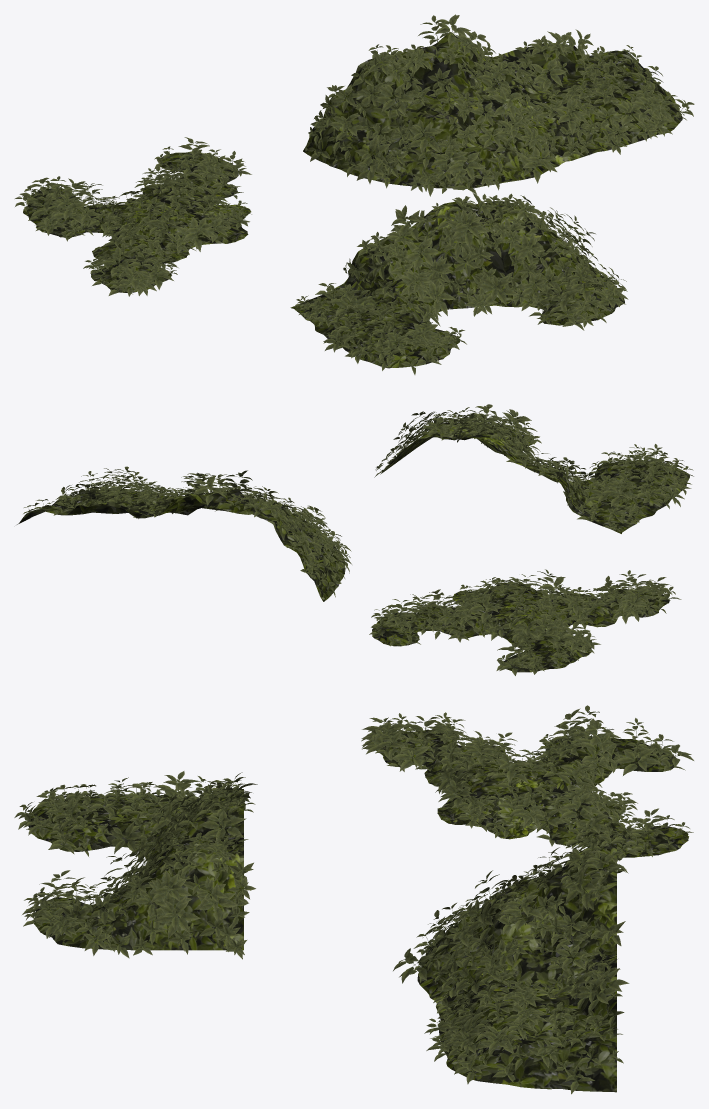
File: Shrub.fbx
3 renders of one model, top to bottom at view 1: azimuth 30°, elevation 25°; view 2: azimuth 150°, elevation 25°; view 3: azimuth 270°, elevation 25°, orthographic. The views are drawn at different scales.
Visible parts, largest first — view 1: Bush02.Shape, Bush03.Shape, Bush01.Shape; view 2: Bush01.Shape, Bush03.Shape, Bush02.Shape; view 3: Bush02.Shape, Bush03.Shape, Bush01.Shape.
Boxes of the visible parts, left/top/right/bottom form: Bush02.Shape: left=303, top=14, right=694, bottom=196; Bush03.Shape: left=290, top=192, right=628, bottom=374; Bush01.Shape: left=15, top=137, right=251, bottom=296; Bush01.Shape: left=369, top=569, right=681, bottom=675; Bush03.Shape: left=374, top=404, right=693, bottom=533; Bush02.Shape: left=17, top=466, right=351, bottom=601; Bush02.Shape: left=393, top=830, right=629, bottom=1094; Bush03.Shape: left=14, top=771, right=257, bottom=959; Bush01.Shape: left=361, top=705, right=693, bottom=860.
Size of the model in its own units: 486 by 78.99 by 381.
2 materials, 2 textured.
